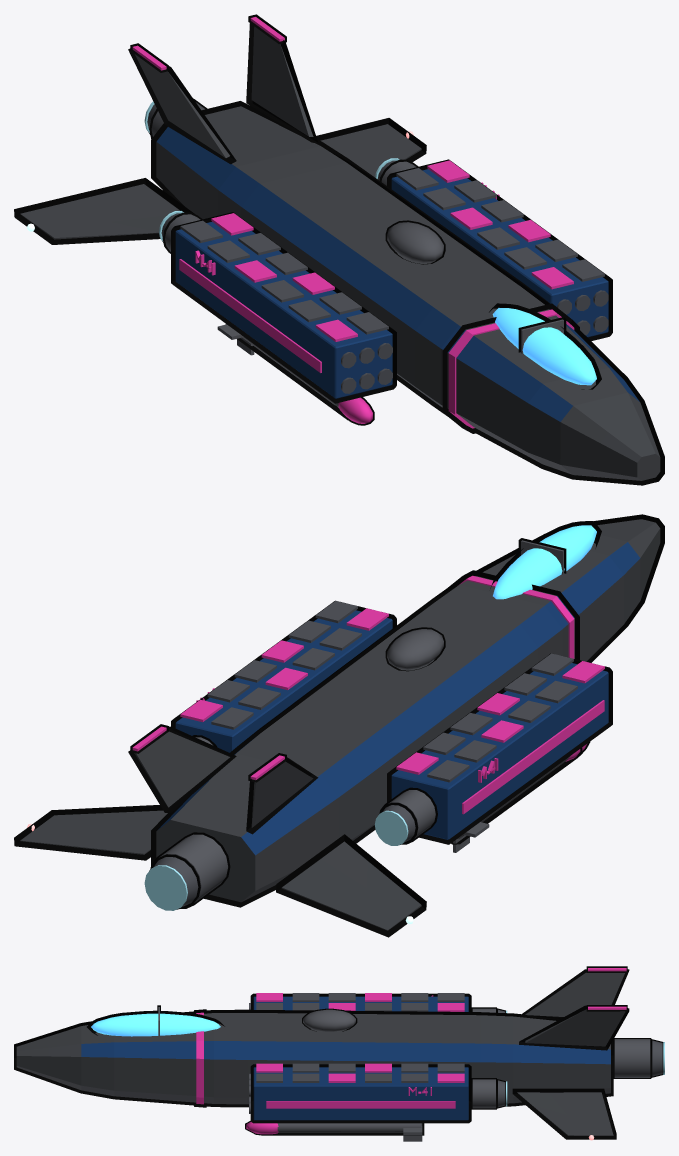
The model's file is Plane_MissileBoat.fbx.
3 views of the same model, one above another, from view 1: azimuth 30°, elevation 25°; view 2: azimuth 150°, elevation 25°; view 3: azimuth 270°, elevation 25° (orthographic). The views are drawn at different scales.
Parts seen in each view (by area): view 1: Hull.005, VLS, Pod-1.001, Wing-1.005, Pod1.001, Fin1.004, Canopy.005, Fin-1.004, Wing1.005, Band.001, Radar, PodStripe-1 (+2 smaller); view 2: Hull.005, VLS, Pod-1.001, Wing-1.005, Pod1.001, Wing1.005, Fin1.004, Canopy.005, Fin-1.004, Main_Body.001, Radar, PodStripe-1 (+7 smaller); view 3: Hull.005, Pod1.001, VLS, Wing1.005, Fin1.004, Fin-1.004, Canopy.005, ASM1_Body, Main_Body.001, PodStripe1, Pod-1.001, Radar (+6 smaller).
Boxes of the visible parts, left/top/right/bottom form: Hull.005: left=151, top=101, right=664, bottom=485; VLS: left=180, top=160, right=604, bottom=341; Pod-1.001: left=171, top=212, right=396, bottom=403; Wing-1.005: left=14, top=178, right=194, bottom=244; Pod1.001: left=387, top=159, right=612, bottom=340; Fin1.004: left=246, top=23, right=318, bottom=142; Canopy.005: left=489, top=303, right=601, bottom=389; Fin-1.004: left=128, top=48, right=236, bottom=164; Wing1.005: left=316, top=118, right=426, bottom=177; Band.001: left=442, top=303, right=579, bottom=433; Radar: left=385, top=220, right=445, bottom=264; PodStripe-1: left=179, top=259, right=321, bottom=372; Hull.005: left=151, top=514, right=664, bottom=907; VLS: left=180, top=600, right=604, bottom=782; Pod-1.001: left=387, top=653, right=612, bottom=844; Wing-1.005: left=276, top=834, right=426, bottom=937; Pod1.001: left=171, top=601, right=396, bottom=752; Wing1.005: left=14, top=805, right=167, bottom=860; Fin1.004: left=128, top=726, right=236, bottom=812; Canopy.005: left=490, top=521, right=601, bottom=599; Fin-1.004: left=246, top=757, right=318, bottom=834; Main_Body.001: left=150, top=832, right=230, bottom=908; Radar: left=385, top=627, right=445, bottom=671; PodStripe-1: left=462, top=700, right=604, bottom=814; Hull.005: left=14, top=1009, right=613, bottom=1107; Pod1.001: left=250, top=1064, right=471, bottom=1123; VLS: left=256, top=993, right=464, bottom=1082; Wing1.005: left=512, top=1088, right=616, bottom=1139; Fin1.004: left=519, top=1005, right=629, bottom=1050; Fin-1.004: left=519, top=969, right=629, bottom=1019; Canopy.005: left=87, top=1010, right=224, bottom=1036; ASM1_Body: left=272, top=1123, right=424, bottom=1135; Main_Body.001: left=613, top=1038, right=651, bottom=1078; PodStripe1: left=266, top=1101, right=455, bottom=1108; Pod-1.001: left=250, top=993, right=471, bottom=1011; Radar: left=302, top=1008, right=357, bottom=1031.
Bounding box in the file's own units: 9.48 × 4.14 × 20.63.
